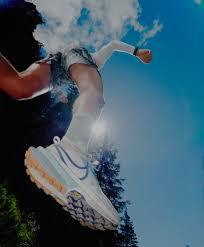nike logo: (47, 138, 92, 188)
